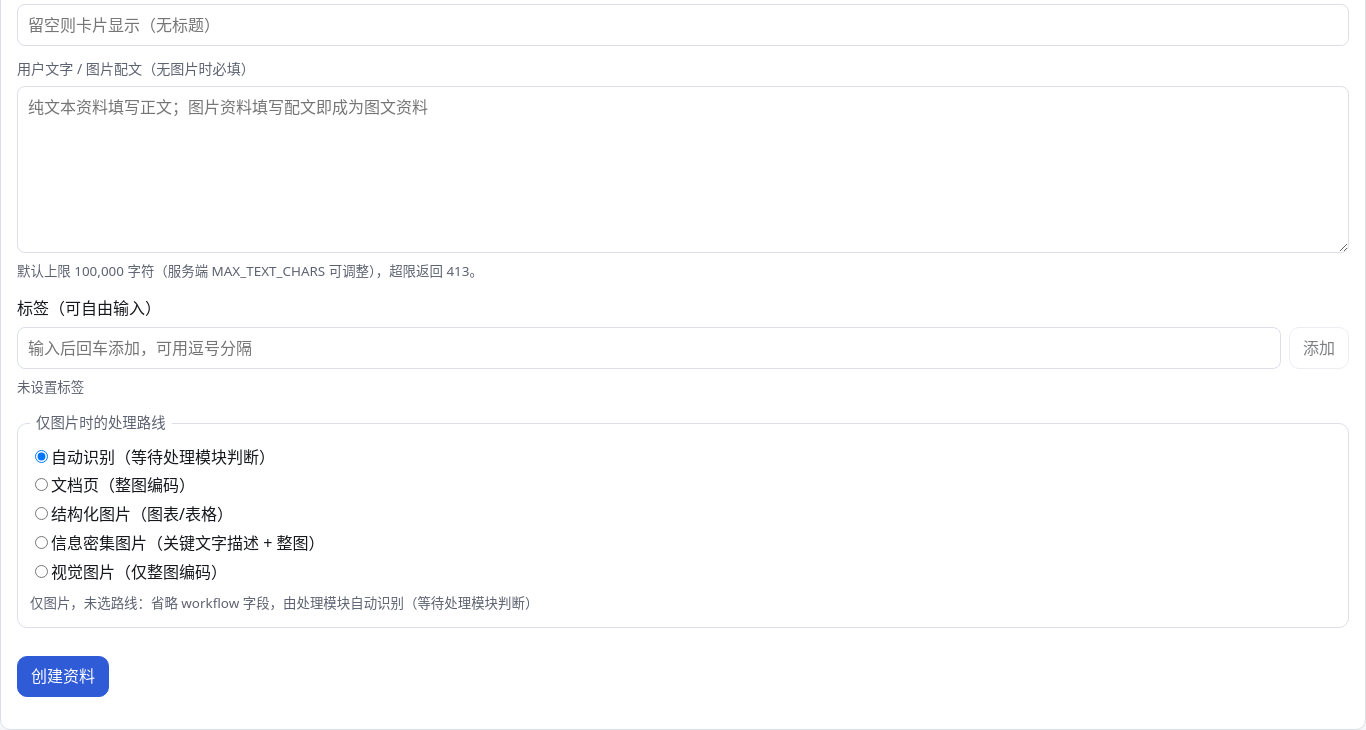
Test: import page › flags a duplicate import without pretending it was blocked
Earlier steps of the test are not shown.
(page scrolled)
Click the button "创建资料". click: (63, 677)
box: [17,656,109,697]
(page scrolled)
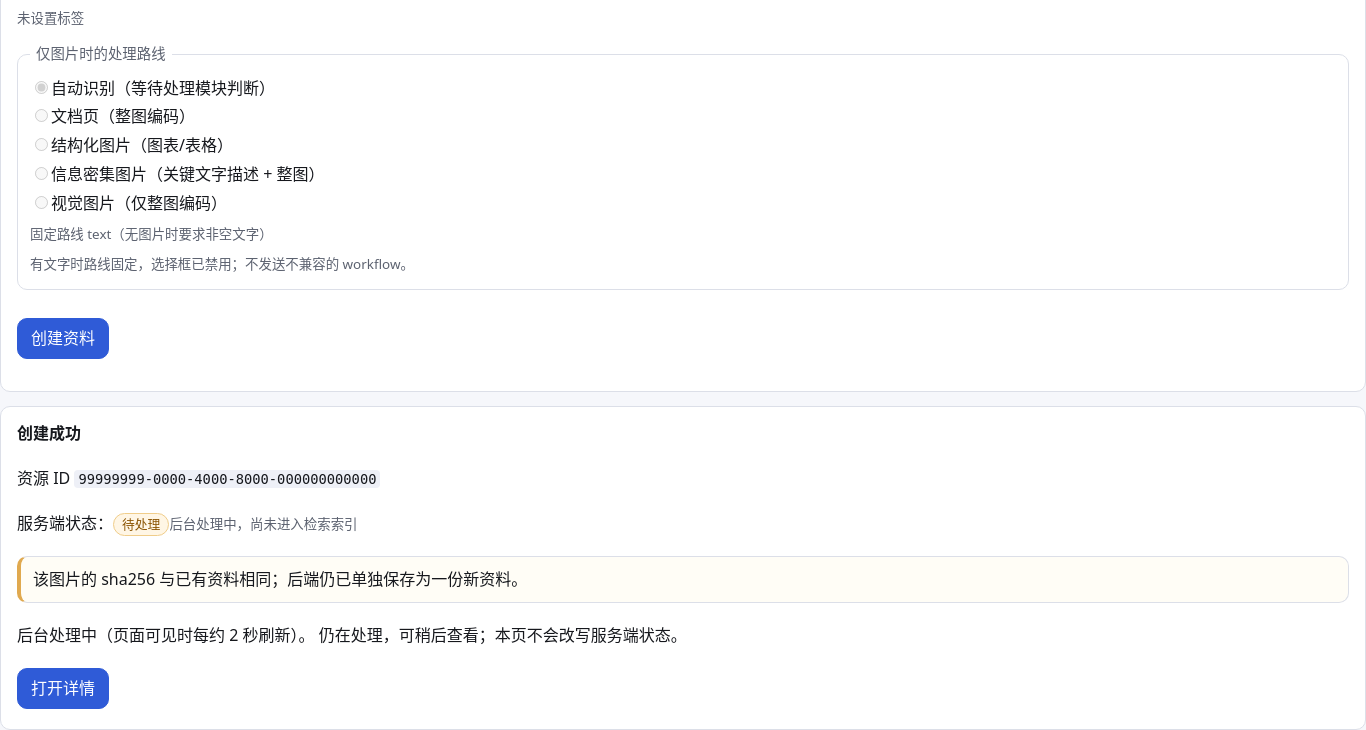
Check: the text "该图片的 sha256 与已有资料相同；后端仍已单独保存为一份新资料。" is shown, box [17,556,1349,603]
